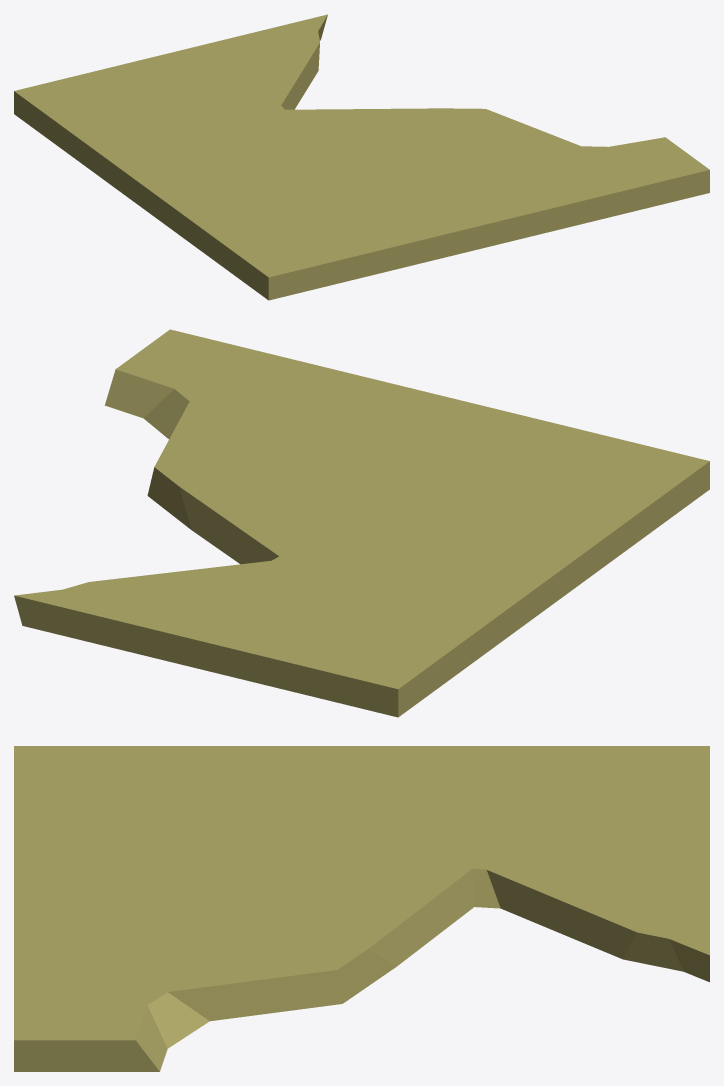
File: Ceiling_003.glb
3 views of the same model, one above another, from view 1: azimuth 30°, elevation 25°; view 2: azimuth 150°, elevation 25°; view 3: azimuth 270°, elevation 25° (orthographic). The views are drawn at different scales.
Visible parts, largest first — view 1: Ceiling.003; view 2: Ceiling.003; view 3: Ceiling.003.
Part boxes in pixels (x1=…): Ceiling.003: x1=14, y1=14, x2=709, y2=300; Ceiling.003: x1=14, y1=329, x2=709, y2=717; Ceiling.003: x1=14, y1=746, x2=709, y2=1071.
Size of the model in its own units: 2 by 0.1 by 2.
